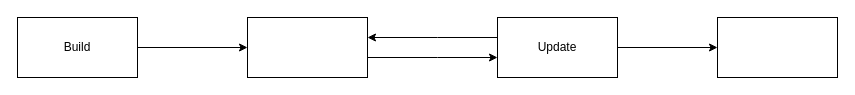
This 855x95 diagram has some shape labels left out. The shapes that lost their labels are listed below. From the top down, each one's box as (x1, y1, x2, y2) in pixels, then its label:
(246, 16, 368, 78): Attack
(716, 16, 838, 78): release
